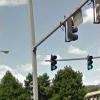Traffic light: (43, 52, 100, 78)
